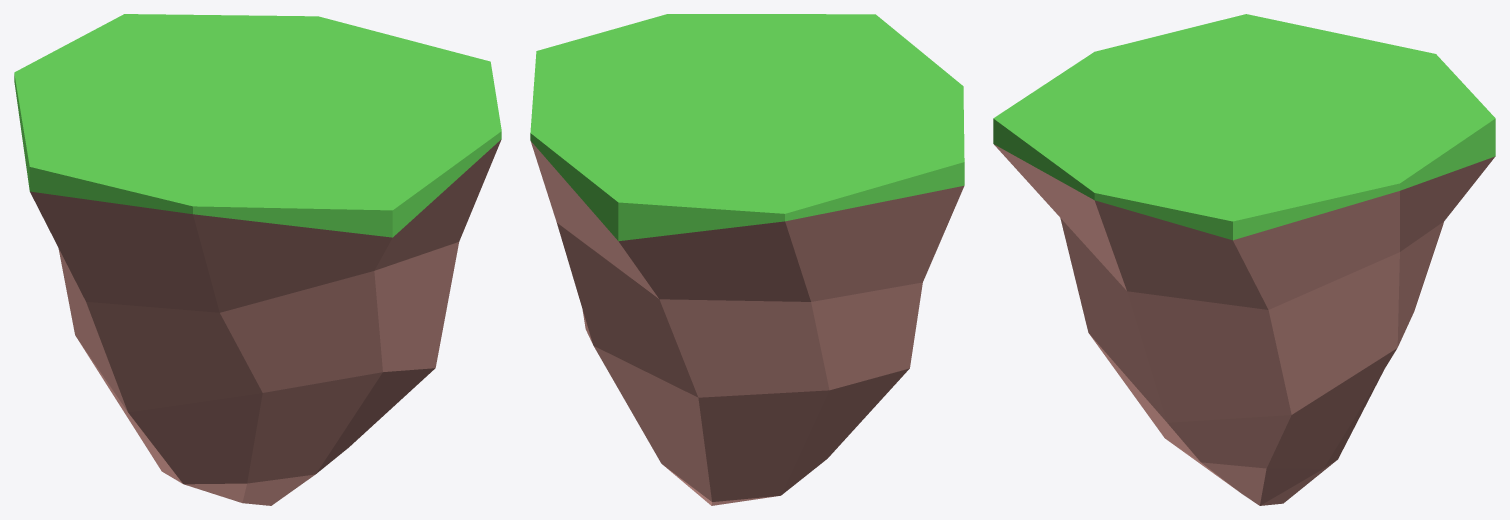
File: Island.gltf
3 renders of one model, left to right at view 1: azimuth 30°, elevation 25°; view 2: azimuth 150°, elevation 25°; view 3: azimuth 270°, elevation 25°, orthographic. The views are drawn at different scales.
Visible parts, largest first — view 1: Island01_Cylinder; view 2: Island01_Cylinder; view 3: Island01_Cylinder.
Part boxes in pixels (x1,y1,x2,y2): Island01_Cylinder: (14,14,501,505); Island01_Cylinder: (530,14,964,505); Island01_Cylinder: (993,14,1495,505).
Bounding box in the file's own units: 0.8871 × 0.7545 × 0.9085.
